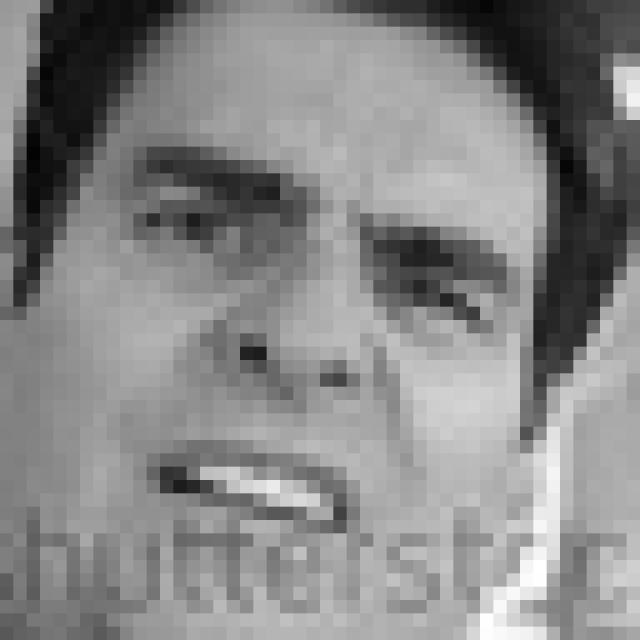disgust: (125, 135, 521, 546)
